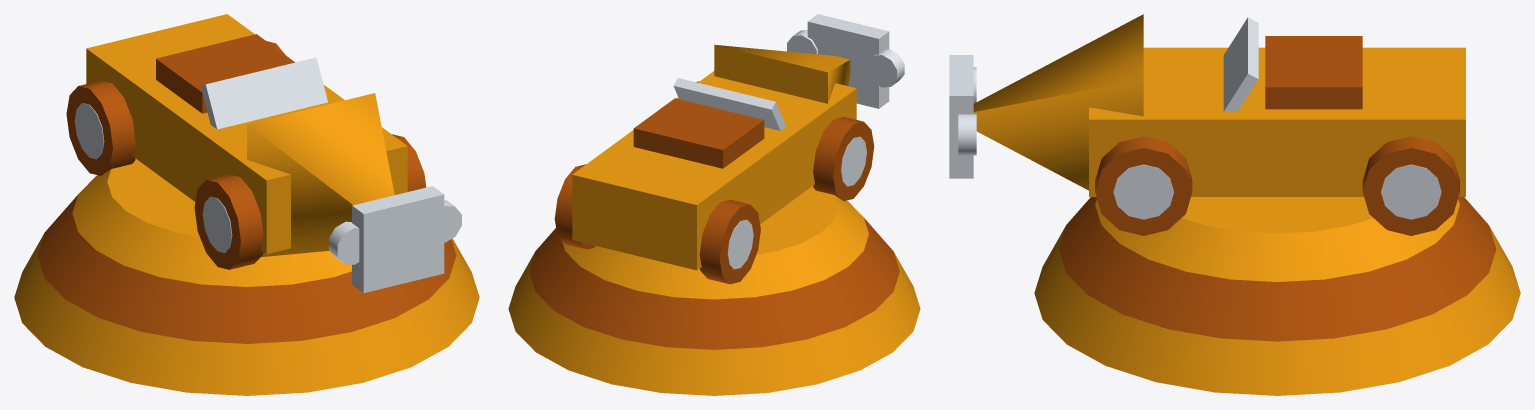
The model's file is pawn_cannon.glb.
3 views of the same model, side by side, from view 1: azimuth 30°, elevation 25°; view 2: azimuth 150°, elevation 25°; view 3: azimuth 270°, elevation 25° (orthographic). The views are drawn at different scales.
Parts seen in each view (by area): view 1: Pawn_Car_Roadster; view 2: Pawn_Car_Roadster; view 3: Pawn_Car_Roadster.
Part boxes in pixels (x1,y1,x2,y2): Pawn_Car_Roadster: [14, 14, 479, 395]; Pawn_Car_Roadster: [508, 14, 920, 395]; Pawn_Car_Roadster: [949, 14, 1520, 395].
Size of the model in its own units: 0.8 by 0.4496 by 0.94.
